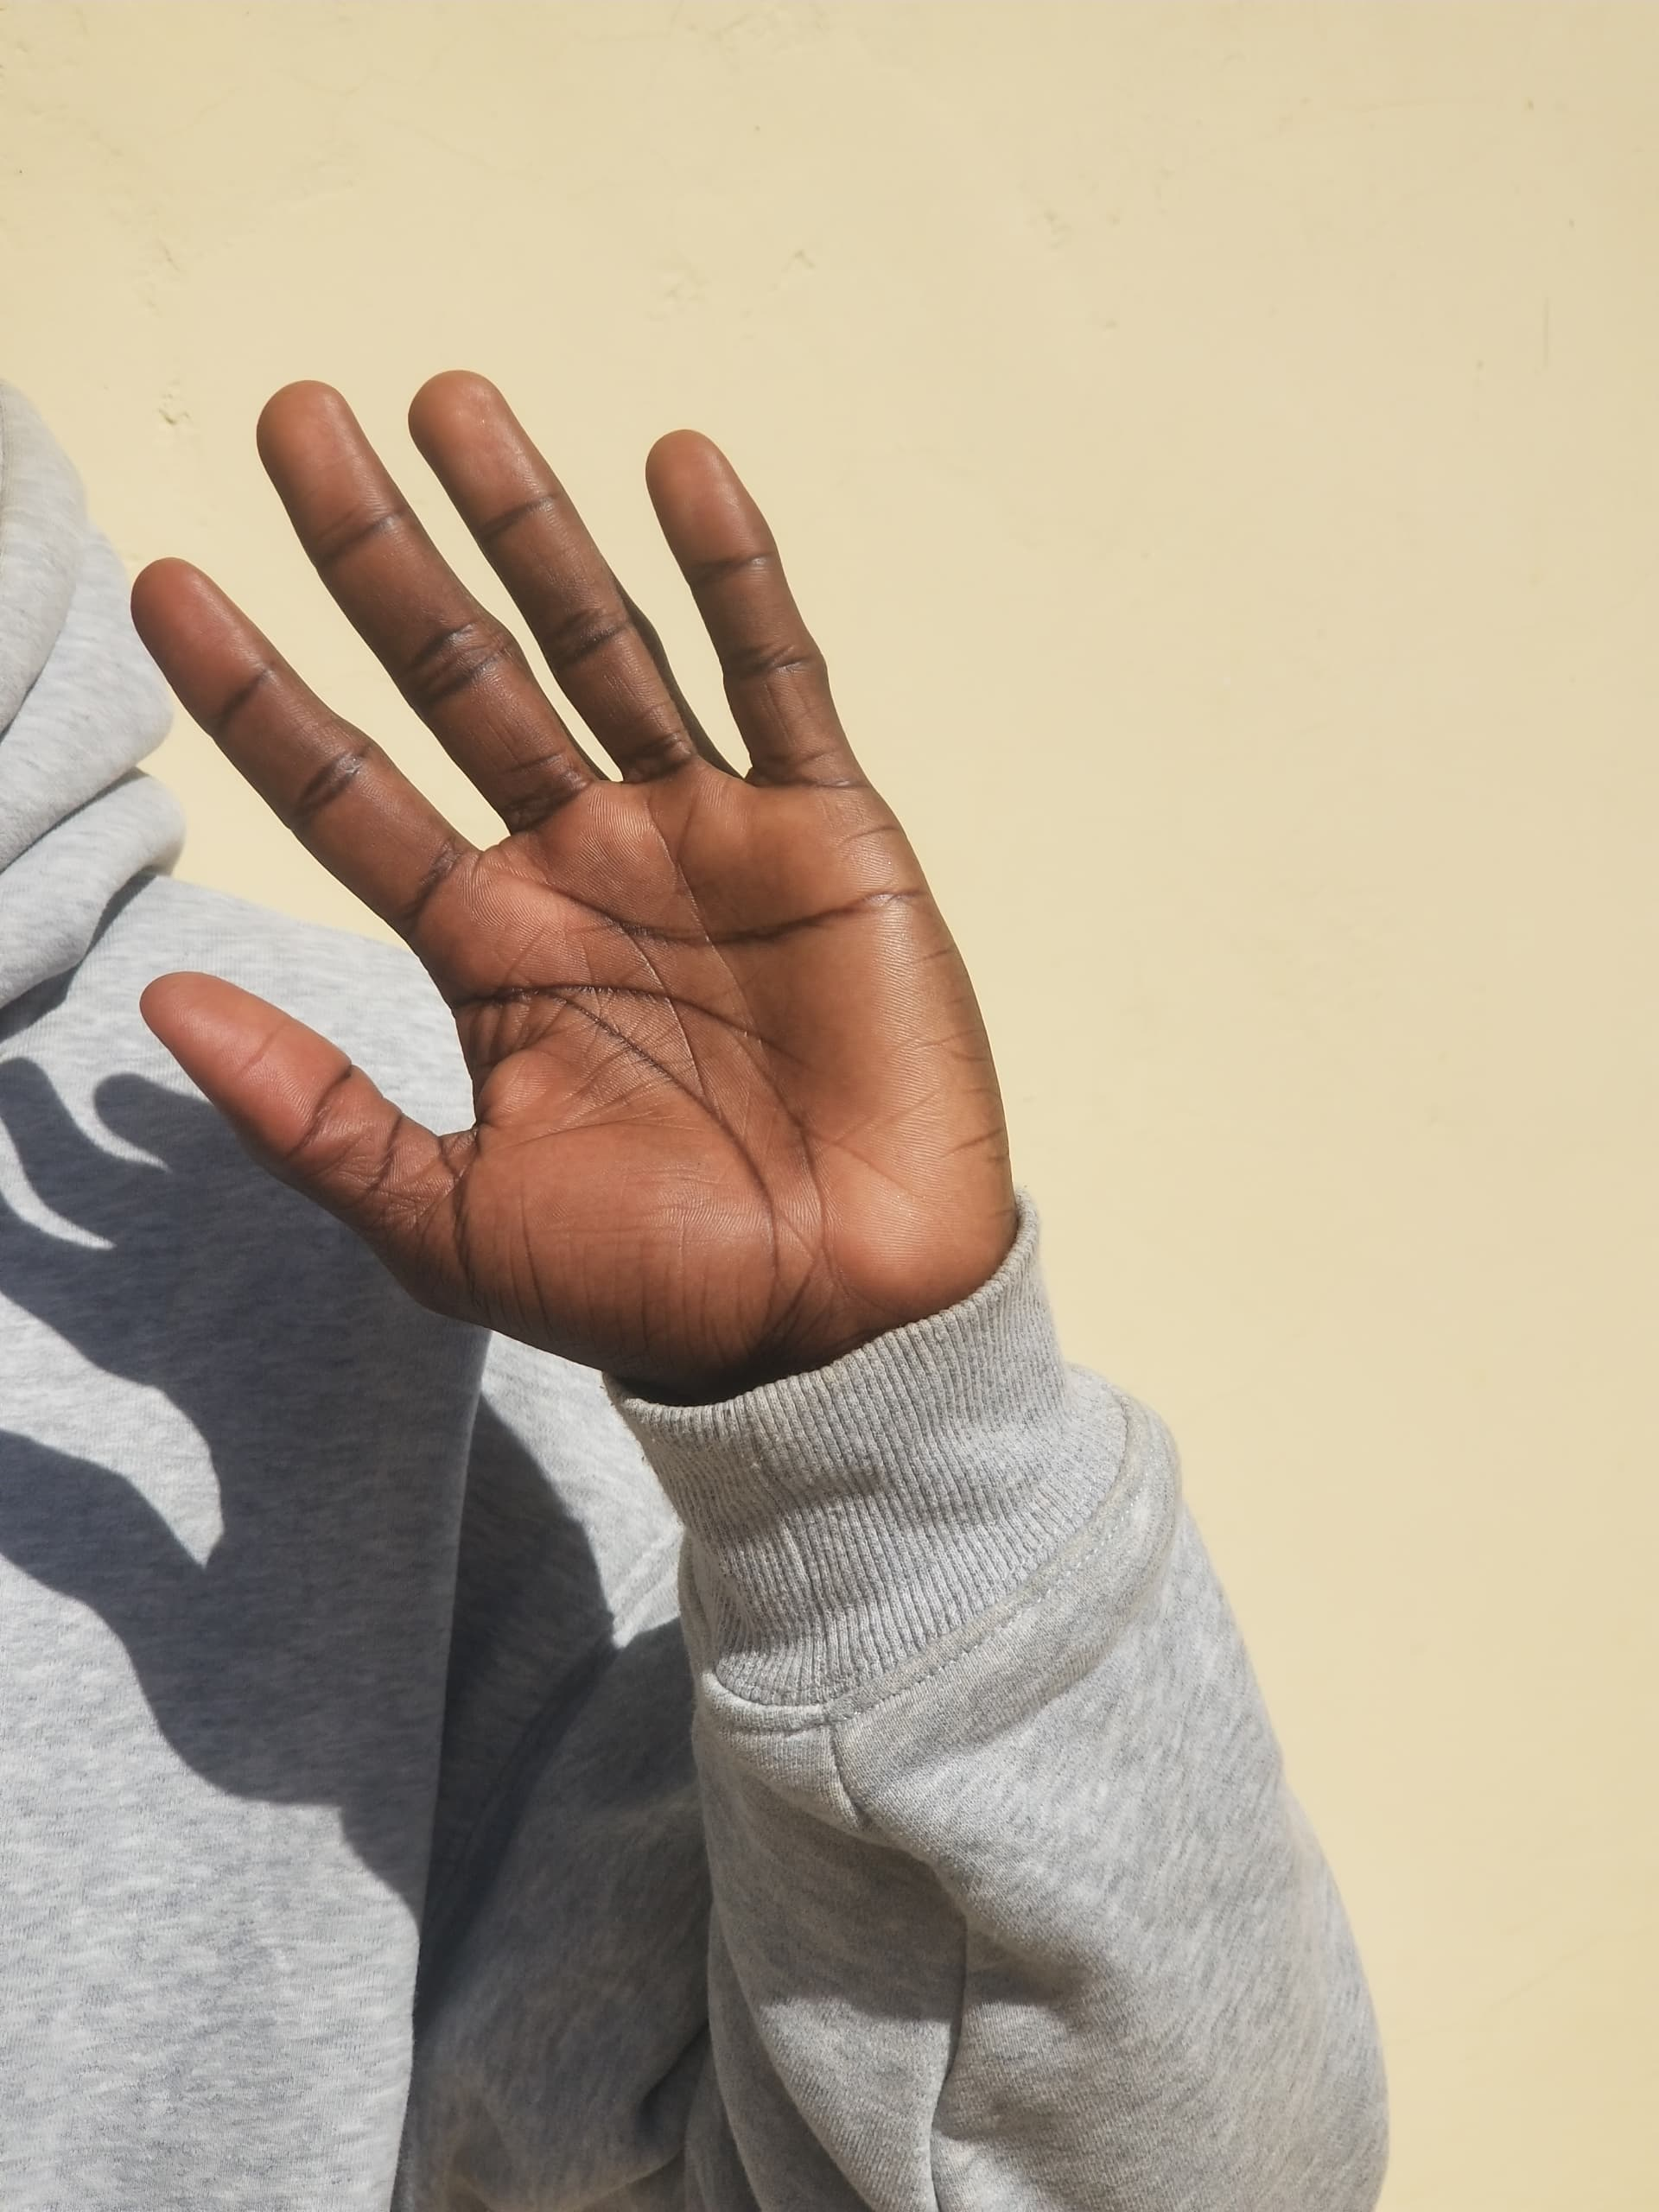hello: (101, 355, 1075, 1554)
